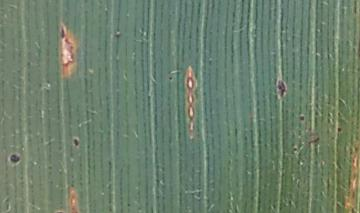tarspot: (275, 77, 287, 100), (7, 152, 21, 165), (307, 135, 321, 147), (113, 30, 122, 44), (59, 24, 66, 40), (6, 3, 17, 13), (71, 136, 80, 148), (297, 113, 306, 123), (206, 58, 213, 69), (262, 140, 269, 151), (349, 205, 358, 213), (335, 125, 342, 135), (122, 70, 129, 80), (167, 74, 174, 82), (291, 146, 298, 153), (125, 201, 131, 208)
